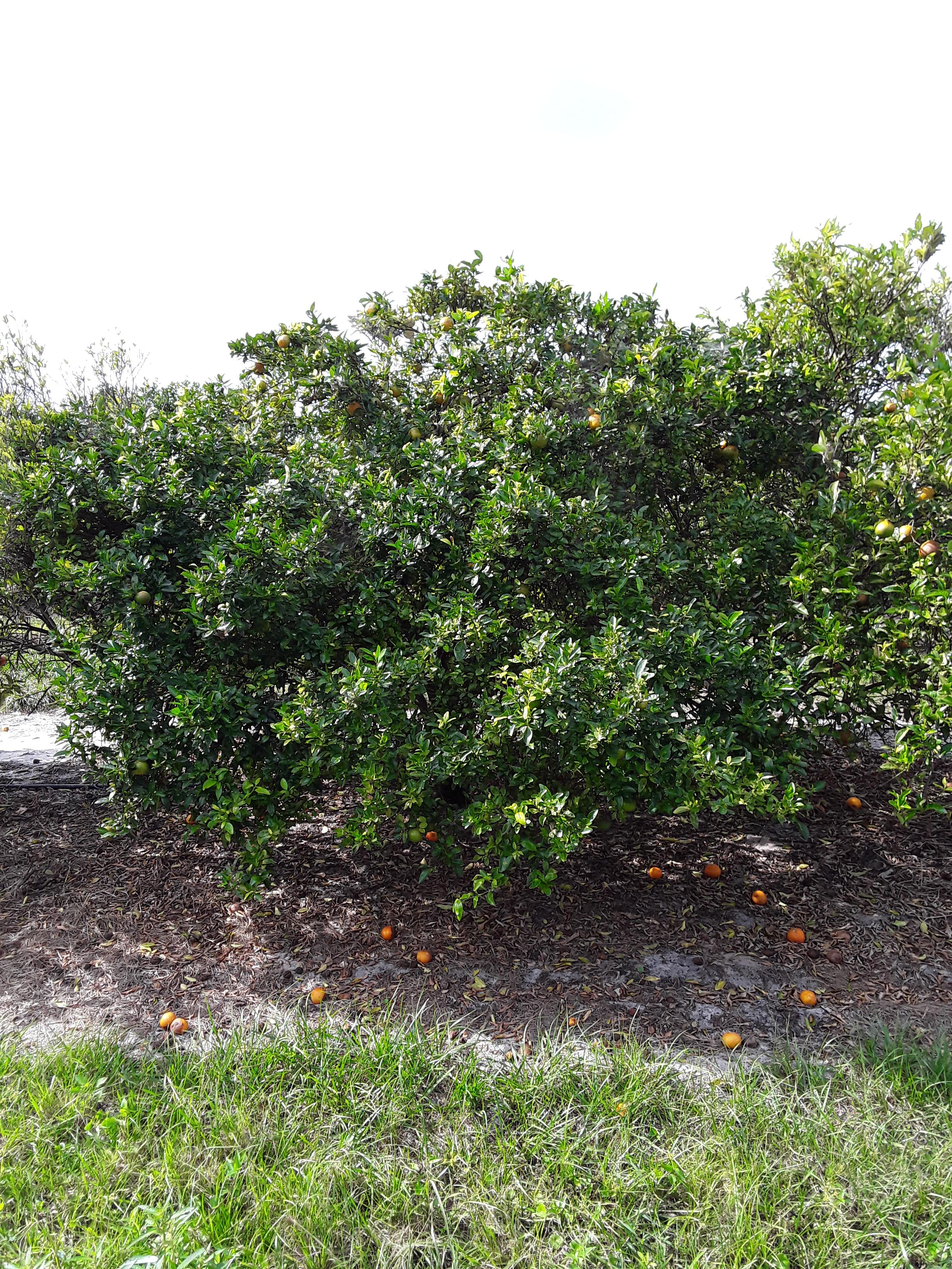fruit_on_ground: (589, 804, 616, 834), (917, 538, 943, 562), (872, 517, 896, 540), (97, 819, 120, 841), (128, 756, 151, 778), (719, 443, 742, 463), (514, 579, 535, 600), (429, 386, 450, 407), (897, 522, 918, 543), (834, 725, 856, 745), (131, 587, 153, 607), (914, 483, 936, 502), (529, 431, 550, 450), (404, 826, 425, 844), (853, 589, 872, 608), (832, 465, 851, 483), (345, 399, 364, 417), (584, 412, 603, 430), (633, 694, 651, 712), (894, 634, 912, 651), (407, 424, 425, 441), (438, 314, 455, 332), (558, 336, 575, 353), (583, 406, 600, 422), (424, 828, 441, 844), (882, 398, 899, 414), (250, 358, 266, 375), (275, 333, 292, 349), (408, 360, 424, 376), (252, 377, 268, 393), (362, 301, 379, 316), (389, 383, 404, 398), (401, 326, 417, 340), (402, 315, 417, 329), (0, 651, 10, 669)
fruit_on_tree: (719, 1029, 743, 1050), (824, 946, 845, 965), (702, 860, 723, 879), (308, 984, 327, 1005), (414, 946, 434, 965), (786, 925, 806, 944), (798, 988, 819, 1006), (171, 1016, 190, 1035), (158, 1009, 176, 1028), (750, 887, 768, 906), (378, 923, 395, 941), (646, 864, 664, 881), (614, 1101, 631, 1118), (844, 794, 862, 810), (806, 947, 821, 961), (184, 811, 198, 825)
